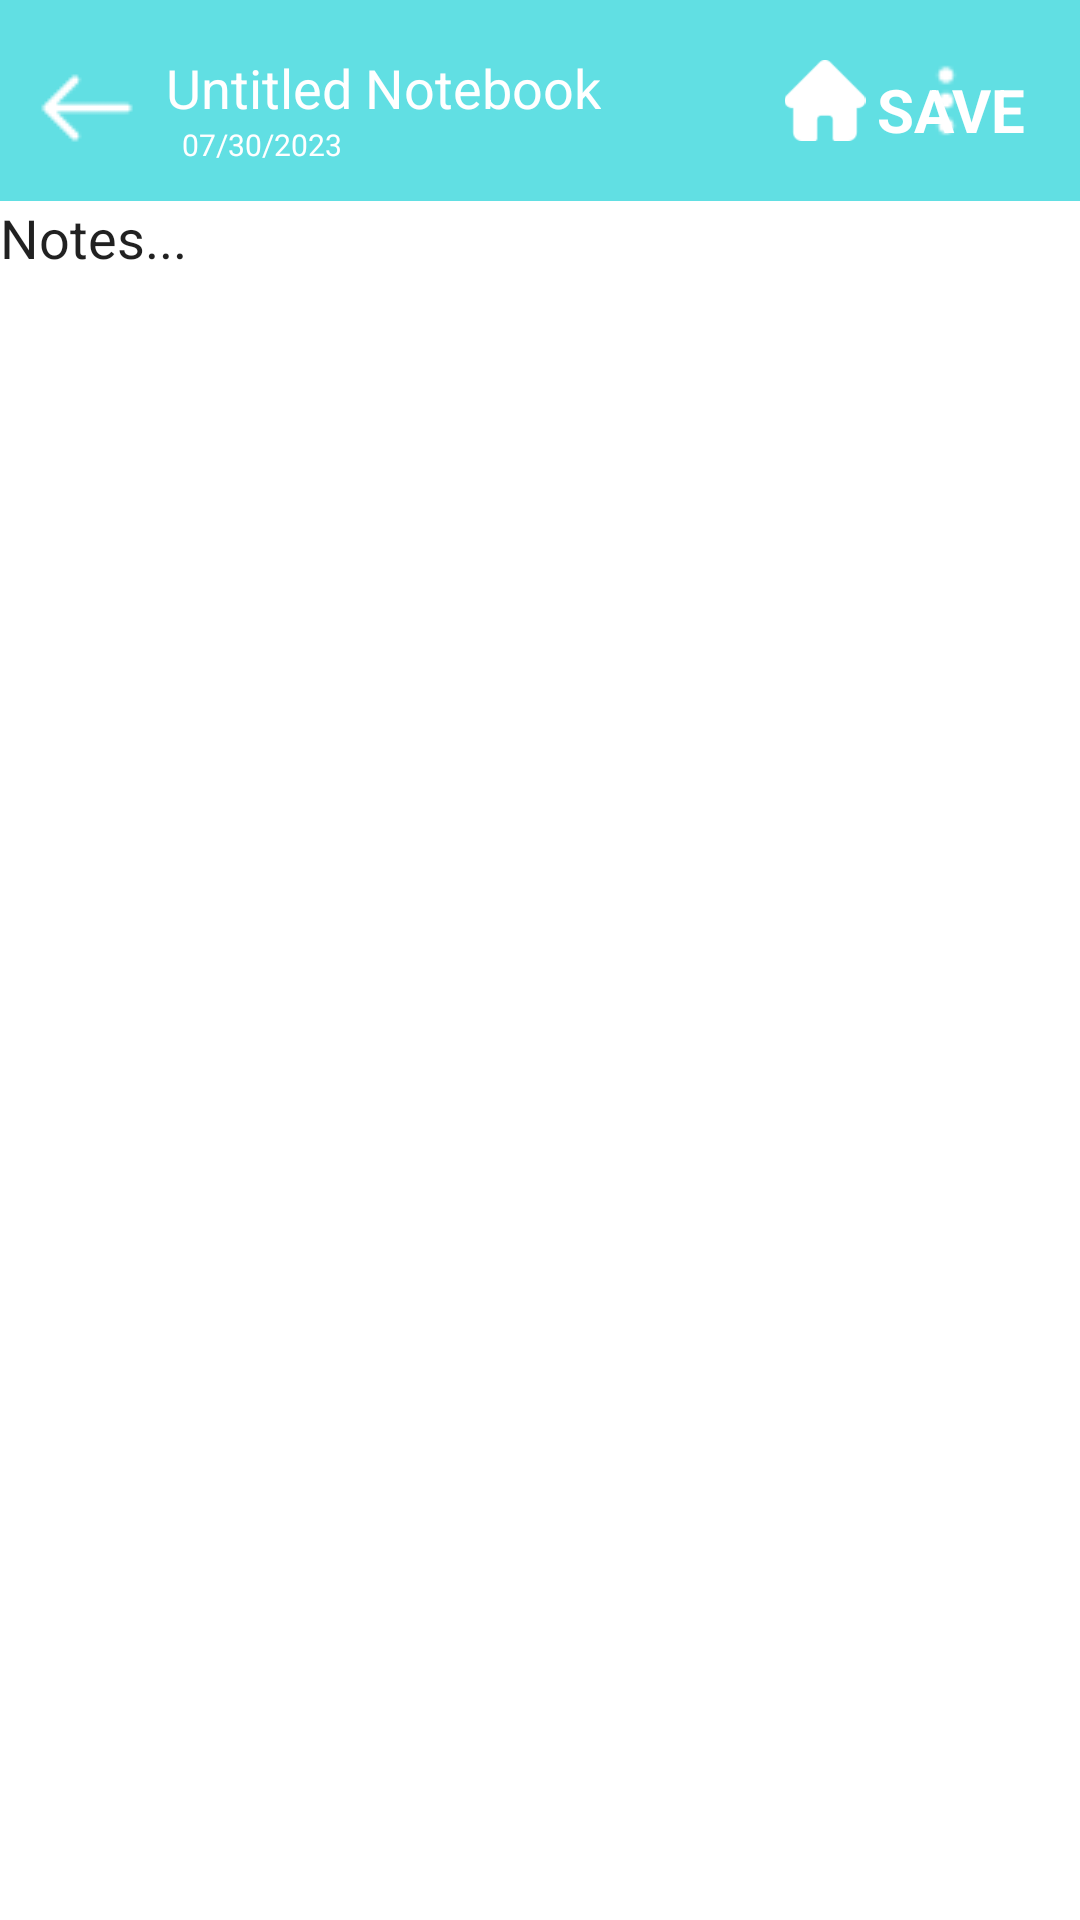

Screen size 1080px x 1920px. Icon name, then its box in pixels as rect(x1, y1, x2, y2):
back: rect(41, 74, 133, 142)
home: rect(785, 60, 866, 141)
